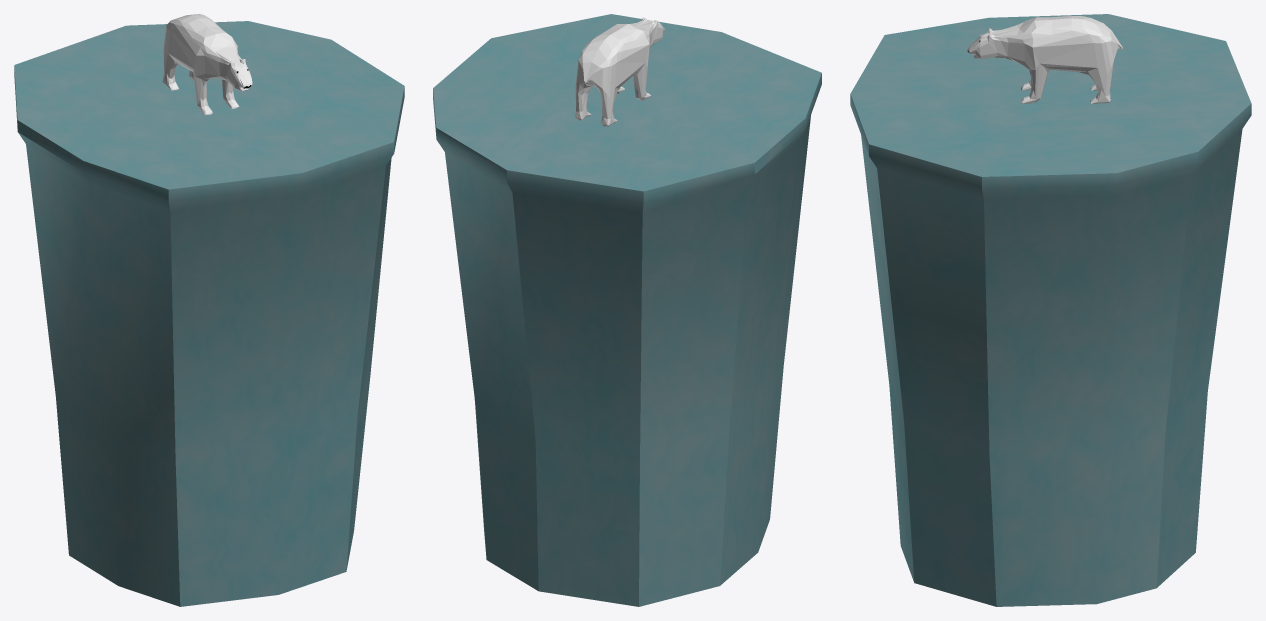
The model's file is polar bear.fbx.
The picture shows the model from 3 angles, left to right: view 1: azimuth 30°, elevation 25°; view 2: azimuth 150°, elevation 25°; view 3: azimuth 270°, elevation 25°; orthographic projection. The views are drawn at different scales.
Parts seen in each view (by area): view 1: Plane, Cube; view 2: Plane, Cube; view 3: Plane, Cube.
Part boxes in pixels (x1=…): Plane: x1=14, y1=21, x2=404, y2=606; Cube: x1=162, y1=14, x2=252, y2=115; Plane: x1=433, y1=14, x2=821, y2=606; Cube: x1=575, y1=17, x2=664, y2=126; Plane: x1=850, y1=14, x2=1251, y2=606; Cube: x1=967, y1=16, x2=1122, y2=103.
Size of the model in its own units: 359 by 544 by 374.
3 materials, 1 textured.
